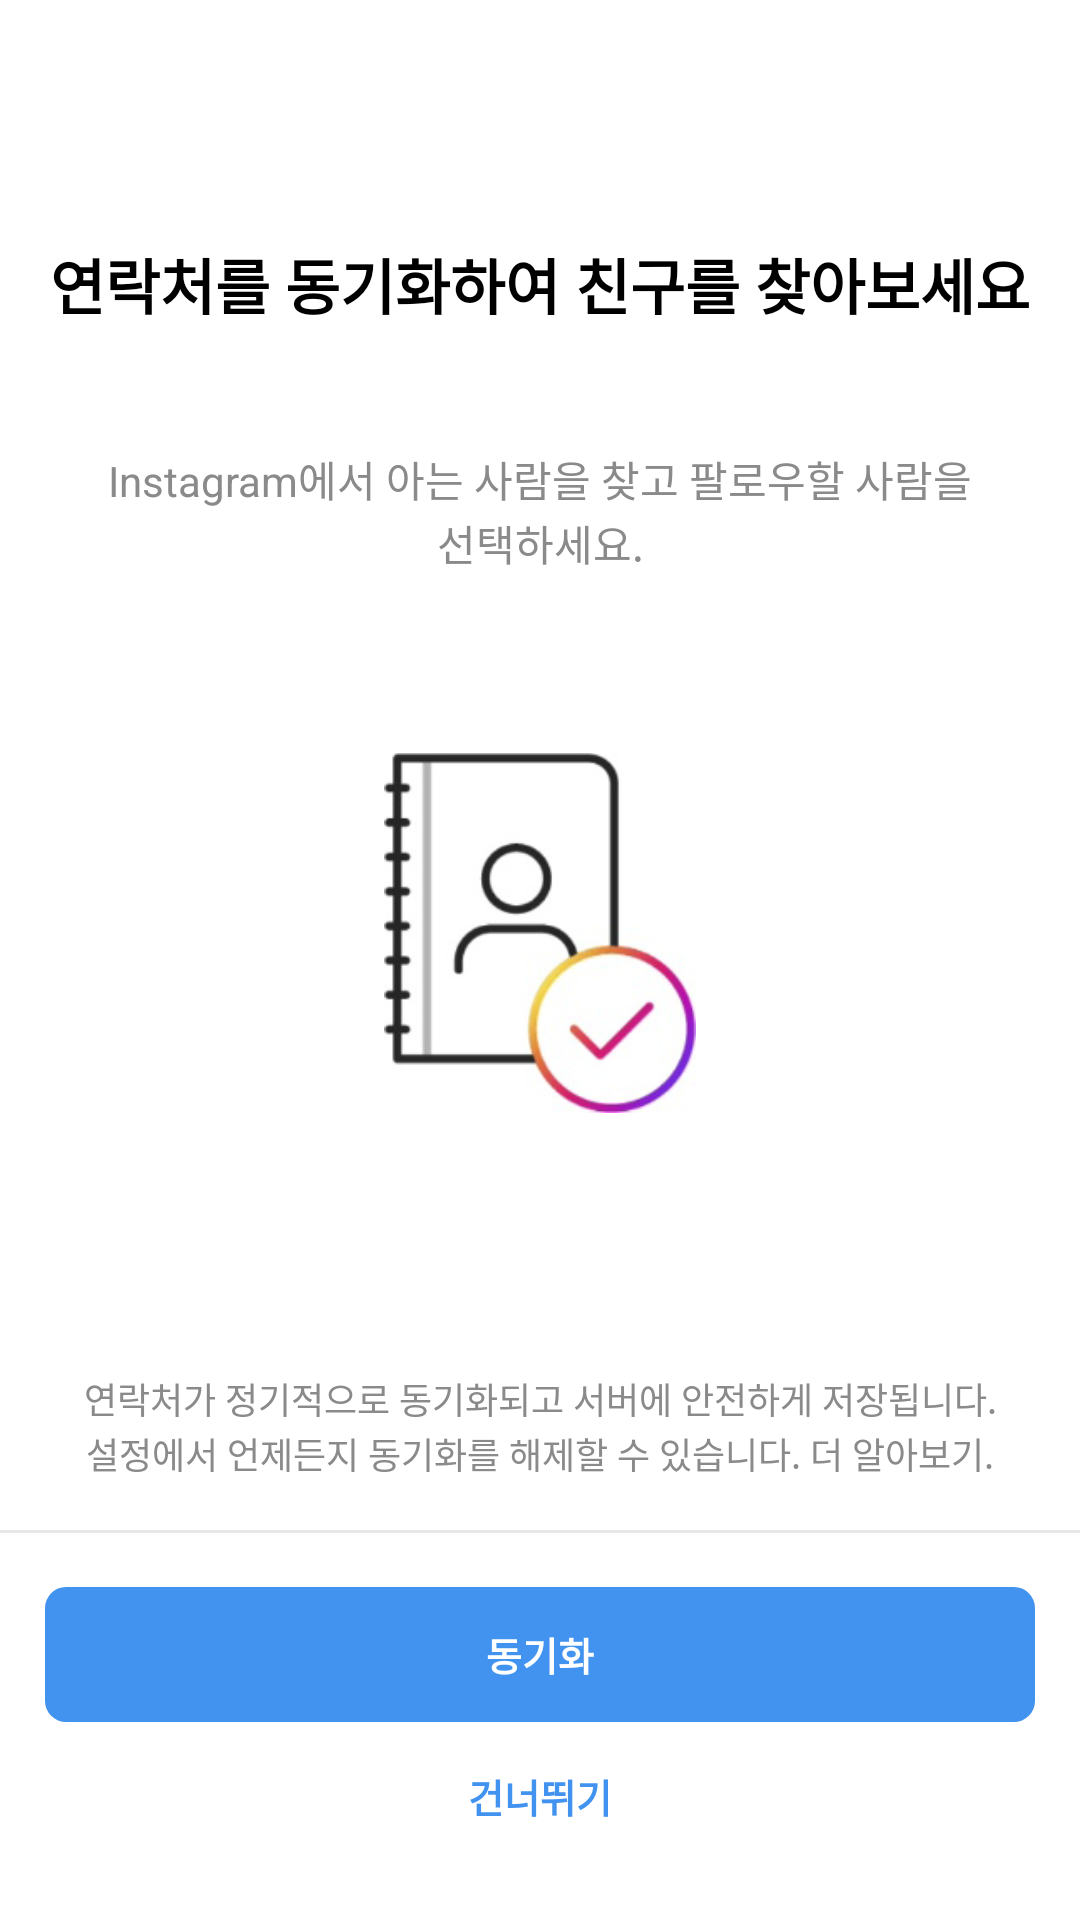

Icons on this 1080px×1920px Android screen, each with its box as (x1, y1, x2, y2):
discover contact: (384, 753, 696, 1113)
